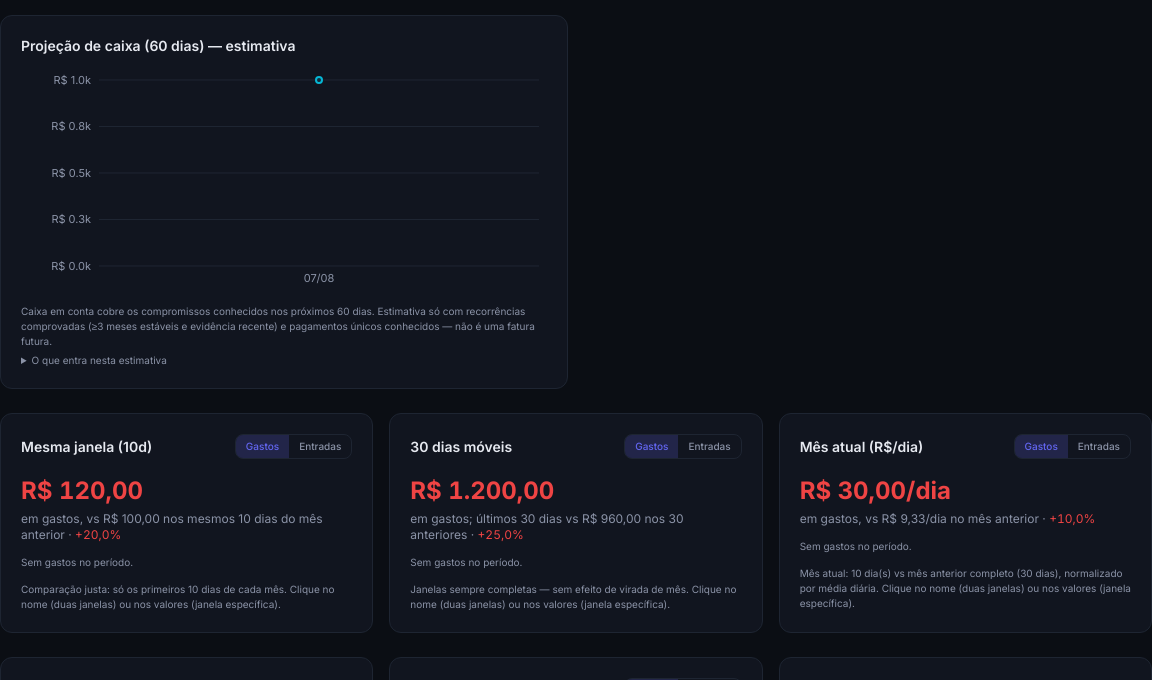
Scenario: OverviewPage › AC-007: exibe as premissas da projeção de caixa
(page scrolled)
Step 1. Click the heading "O que entra nesta estimativa" → (99, 360), box [32,354,167,366]
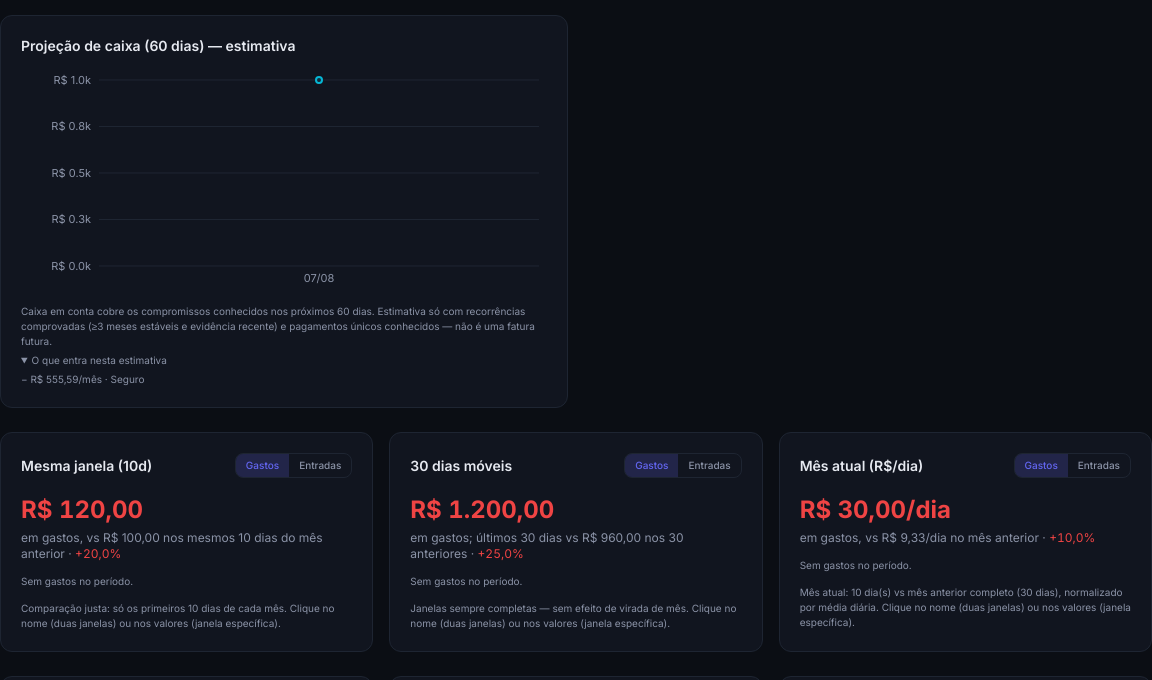
Expected: the list item "− R$ 555,59/mês · Seguro" is shown, [21,373,144,385]
